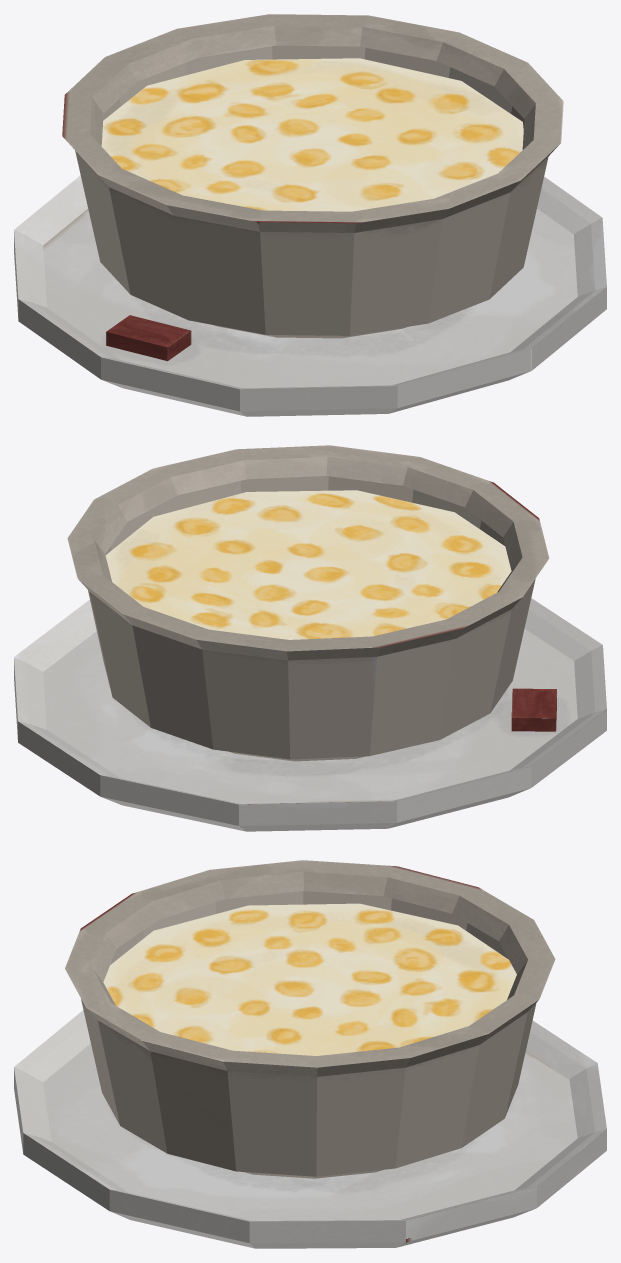
Rendered from mazamorra.glb.
3 renders of one model, top to bottom at view 1: azimuth 30°, elevation 25°; view 2: azimuth 150°, elevation 25°; view 3: azimuth 270°, elevation 25°, orthographic. The views are drawn at different scales.
Parts seen in each view (by area): view 1: Cylinder, Cylinder.001, Cylinder.002, Cube; view 2: Cylinder, Cylinder.001, Cylinder.002, Cube; view 3: Cylinder, Cylinder.001, Cylinder.002.
Part boxes in pixels (x1,y1,x2,y2): Cylinder: [62, 14, 563, 338]; Cylinder.001: [14, 175, 606, 416]; Cylinder.002: [101, 58, 523, 211]; Cube: [106, 315, 191, 361]; Cylinder: [67, 445, 549, 761]; Cylinder.001: [14, 598, 606, 831]; Cylinder.002: [105, 490, 511, 639]; Cube: [511, 688, 556, 731]; Cylinder: [65, 860, 555, 1178]; Cylinder.001: [14, 1010, 606, 1248]; Cylinder.002: [103, 903, 516, 1055].
Size of the model in its own units: 8.89 by 2.94 by 9.01.
4 materials, 4 textured.
